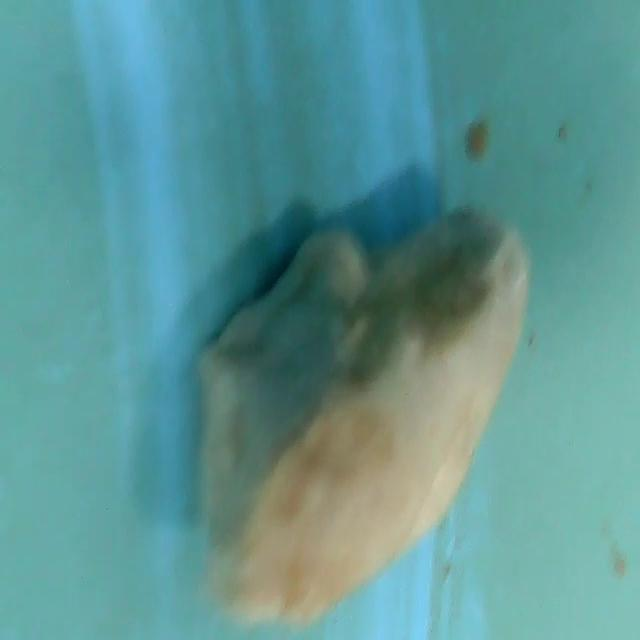rock: (178, 205, 530, 635)
